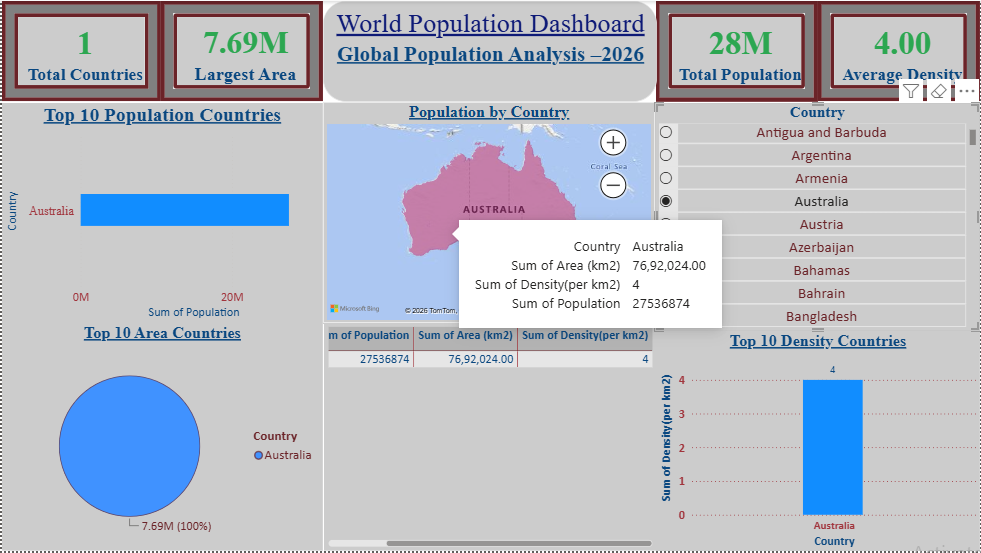

The page's visual inventory and layout, read from the dashboard file:
{"tool":"powerbi","page":{"name":" Page 1","canvas":[1280,720],"ordinal":0},"visuals":[{"type":"cardVisual","fields":{"Data":["ISO Alpha1 (Sheet1).Total Countries"]},"box":[0,0,208.3,131],"z":0},{"type":"cardVisual","fields":{"Data":["ISO Alpha1 (Sheet1).Largest Area"]},"box":[208.3,0,211.7,131],"z":1000},{"type":"cardVisual","fields":{"Data":["ISO Alpha1 (Sheet1).Total Population"]},"box":[856.7,0,211.7,131.7],"z":2000},{"type":"cardVisual","fields":{"Data":["ISO Alpha1 (Sheet1).Average Density"]},"box":[1068.3,0,211.7,131],"z":3000},{"type":"clusteredBarChart","title":"Top 10 Population  Countries","fields":{"Category":["ISO Alpha1 (Sheet1).Country"],"Y":["Sum(ISO Alpha1 (Sheet1).Population)"]},"box":[0,133.3,420,288.3],"z":4000},{"type":"filledMap","title":"Population by Country","fields":{"Category":["ISO Alpha1 (Sheet1).Country"]},"box":[420,131.7,435,290],"z":5000},{"type":"clusteredColumnChart","title":"Top 10 Density Countries","fields":{"Y":["Sum(ISO Alpha1 (Sheet1).Density(per km2))"],"Category":["ISO Alpha1 (Sheet1).Country"]},"box":[855.7,431.4,424.3,288.6],"z":6000},{"type":"pieChart","title":"Top 10 Area Countries","fields":{"Category":["ISO Alpha1 (Sheet1).Country"],"Y":["Sum(ISO Alpha1 (Sheet1).Area (km2))"]},"box":[0,421.7,420,298.3],"z":7000},{"type":"textbox","title":"World Population Dashboard","box":[420,0,436.7,131.7],"z":8000},{"type":"tableEx","fields":{"Values":["ISO Alpha1 (Sheet1).Country","Sum(ISO Alpha1 (Sheet1).Population)","Sum(ISO Alpha1 (Sheet1).Area (km2))","Sum(ISO Alpha1 (Sheet1).Density(per km2))"]},"box":[421.7,421.7,435,298.3],"z":9000},{"type":"listSlicer","fields":{"Values":["ISO Alpha1 (Sheet1).Country"]},"box":[855,133.3,425,298.3],"z":10000}]}

Visuals, with their boxes in screenshot pixels (x1, y1, x2, y2), scaled from the page's 1280x720 canvas onto the 981x553 screenshot:
cardVisual - ISO Alpha1 (Sheet1).Total Countries: crop(0, 0, 160, 101)
cardVisual - ISO Alpha1 (Sheet1).Largest Area: crop(160, 0, 322, 101)
cardVisual - ISO Alpha1 (Sheet1).Total Population: crop(657, 0, 819, 101)
cardVisual - ISO Alpha1 (Sheet1).Average Density: crop(819, 0, 980, 101)
"Top 10 Population  Countries" clusteredBarChart: crop(0, 102, 322, 324)
"Population by Country" filledMap: crop(322, 101, 655, 324)
"Top 10 Density Countries" clusteredColumnChart: crop(656, 331, 980, 552)
"Top 10 Area Countries" pieChart: crop(0, 324, 322, 552)
"World Population Dashboard" textbox: crop(322, 0, 657, 101)
tableEx - ISO Alpha1 (Sheet1).Country x Sum(ISO Alpha1 (Sheet1).Population): crop(323, 324, 657, 552)
listSlicer - ISO Alpha1 (Sheet1).Country: crop(655, 102, 980, 331)
